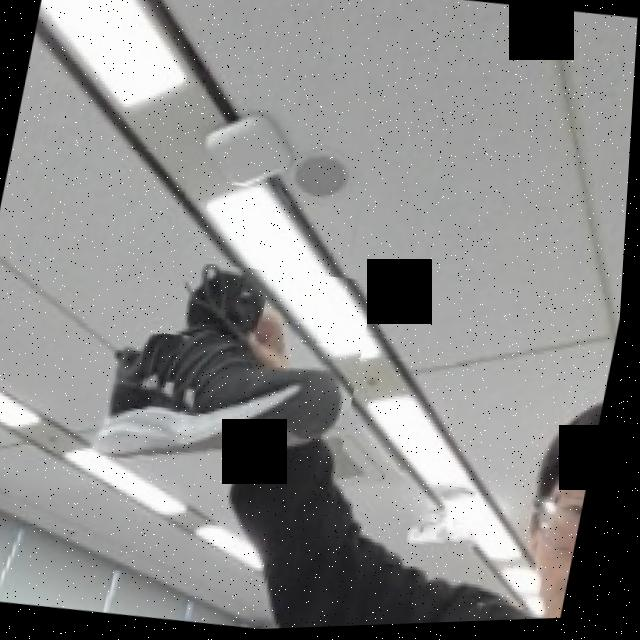shoe: (91, 250, 381, 491)
